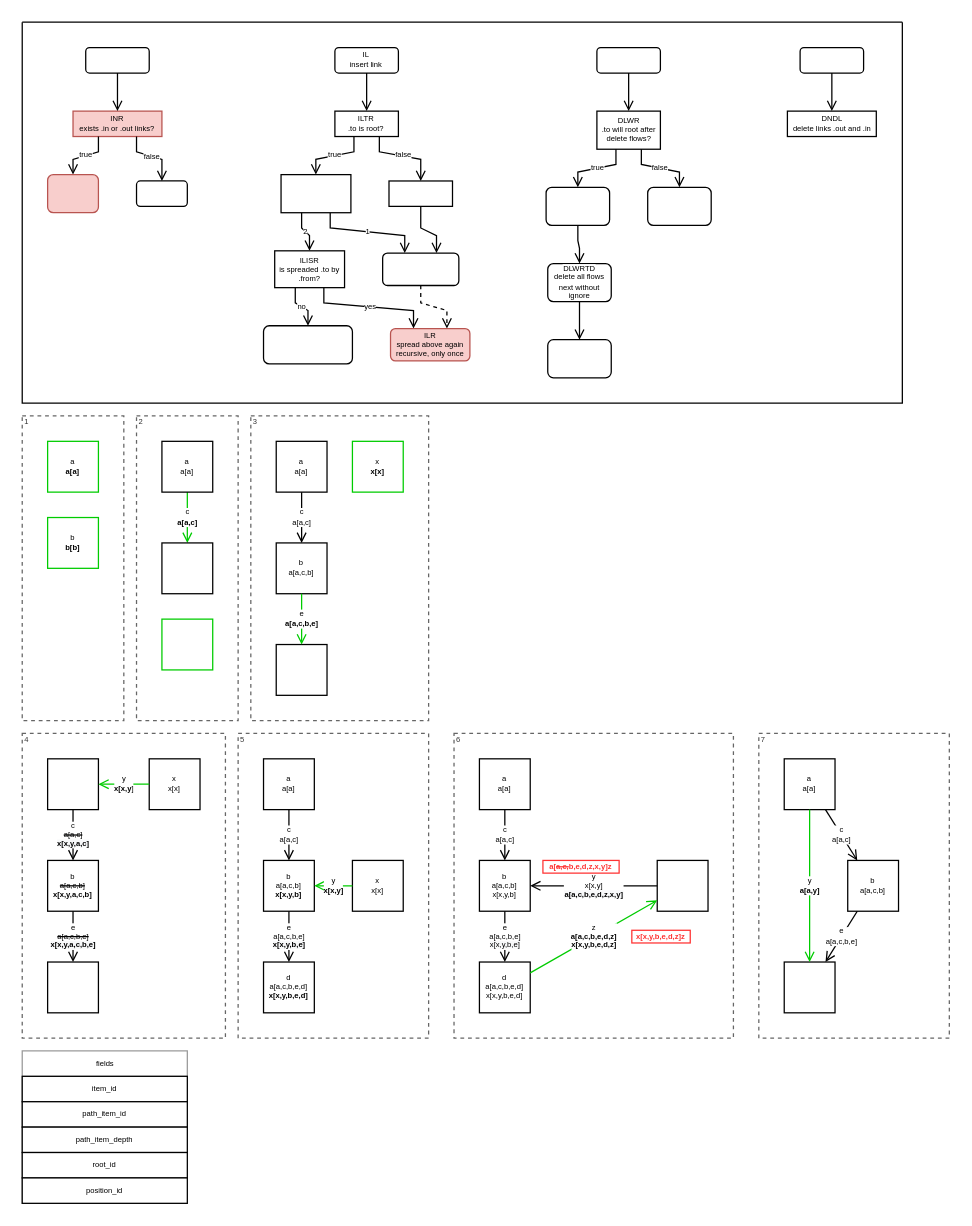
This 972x1226 diagram has some shape labels left out. The box of each missing label's shape, as (x1, y1, x2, y2) in pixels:
a a[a] x[x,y,a]: (46, 758, 98, 810)
b b[b] a[a,c,b]: (161, 542, 213, 594)
d a[a,c,b,e,d] a[a,y,d]: (783, 961, 835, 1013)
d a[a,c,b,e,d] x[x,y,a,c,b,e,d]: (46, 961, 98, 1013)
d d[d]: (161, 618, 213, 670)
d d[d] a[a,c,b,e,d]: (275, 643, 327, 695)
DL delete link: (596, 46, 660, 73)
DLWRF delete all link flows next: (646, 186, 711, 225)
DLWRT select one ignore flow: (545, 186, 610, 225)
DLWRTU update ignored flow to set .to as root: (546, 338, 611, 378)
DN delete node: (799, 46, 864, 73)
ILS spread flows .from to .to and next: (381, 252, 459, 285)
ILTFD delete flow rooting before .to of inserted link: (262, 324, 352, 364)
ILTRF (has other flows): (388, 180, 453, 206)
ILTRT (may be once, may be root of flow): (280, 173, 351, 213)
IN insert node: (84, 46, 149, 73)
INRR make root: (135, 180, 187, 206)
WTF? insert link BEFORE node?: (46, 173, 98, 213)
x x[x] a[a,c,b,e,d,z,x]: (656, 859, 708, 911)
